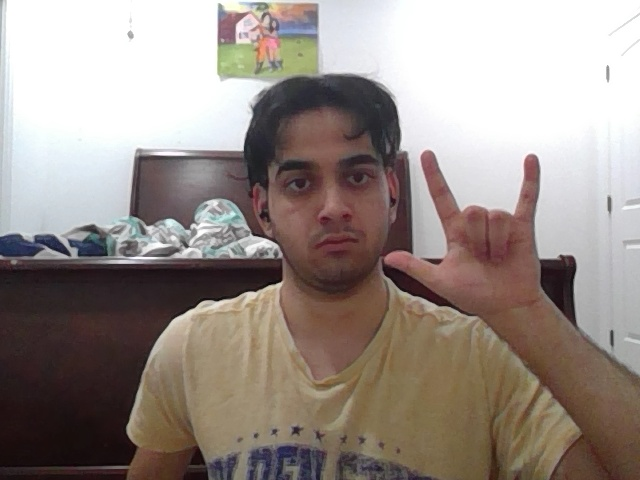iLoveYou: (385, 148, 586, 318)
